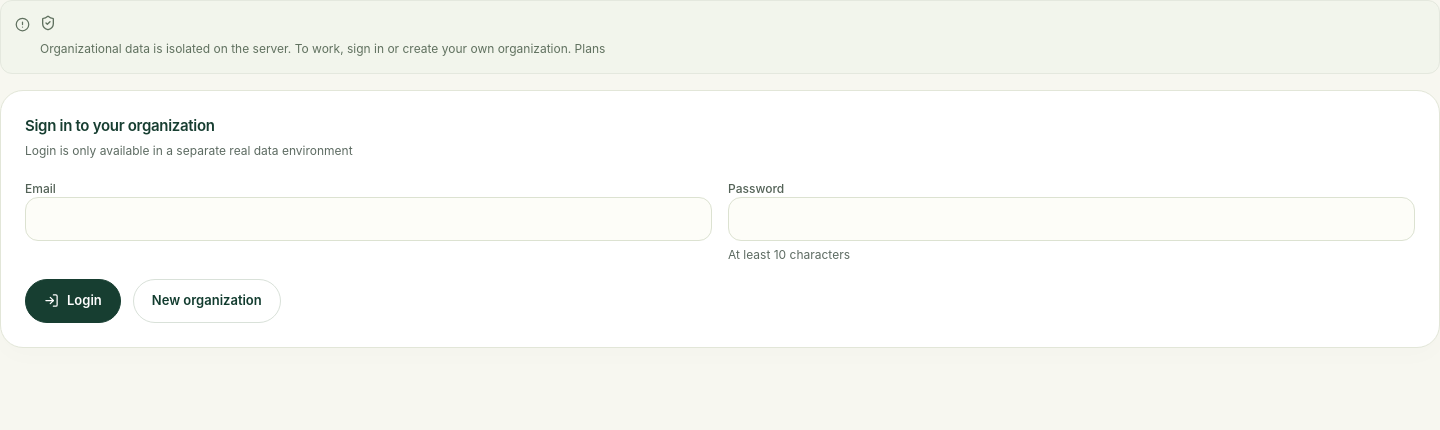
Scenario: en form and response messages › translates required fields and server errors without locking sign-in
Click the button "Login". click: (73, 300)
box: [25,278,121,322]
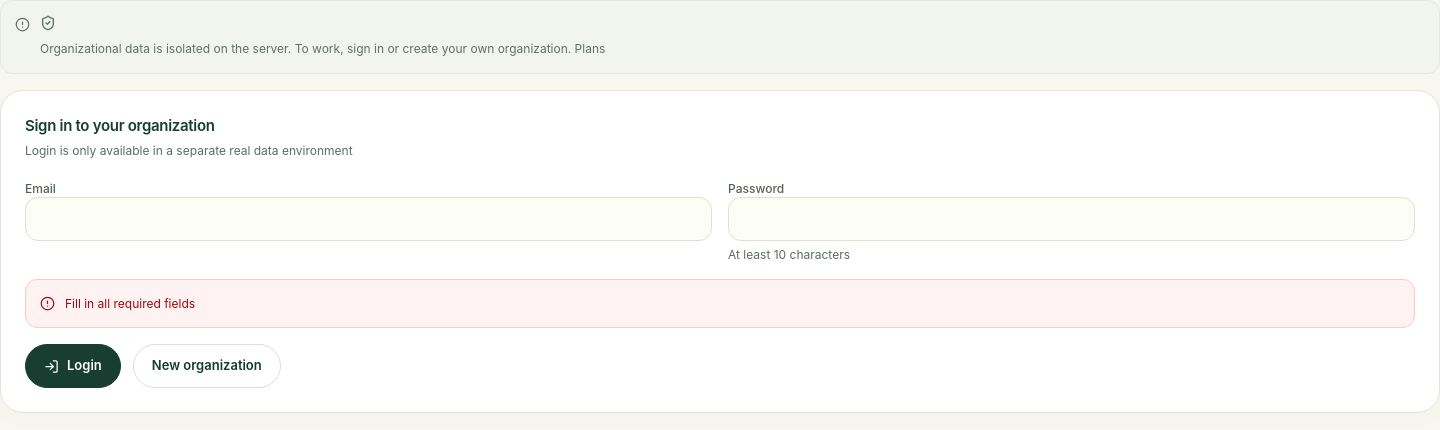
Expected: the button "Login" is enabled, [25,344,121,388]
Expected: the text "Fill in all required fields" is shown, [65,294,195,313]
Type "baker@example.test" into the field labelled "Email". click: (368, 218)
box: [25,196,712,240]
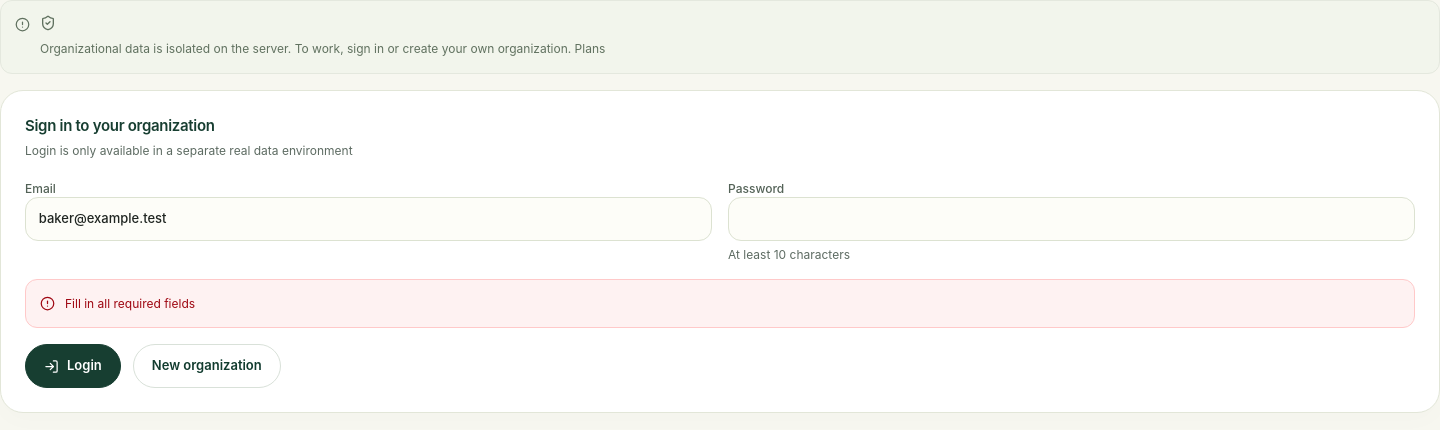
Type "test-password-123" into the password field labelled "Password At least 10 characters". click: (1072, 218)
box: [728,196,1415,240]
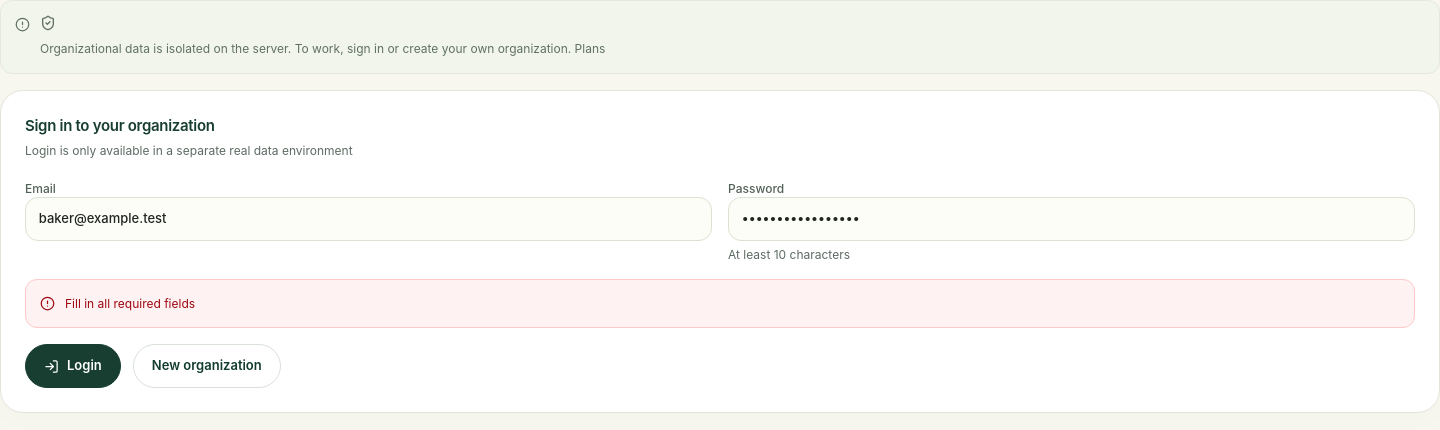
Click the button "Login". click: (73, 366)
box: [25,344,121,388]
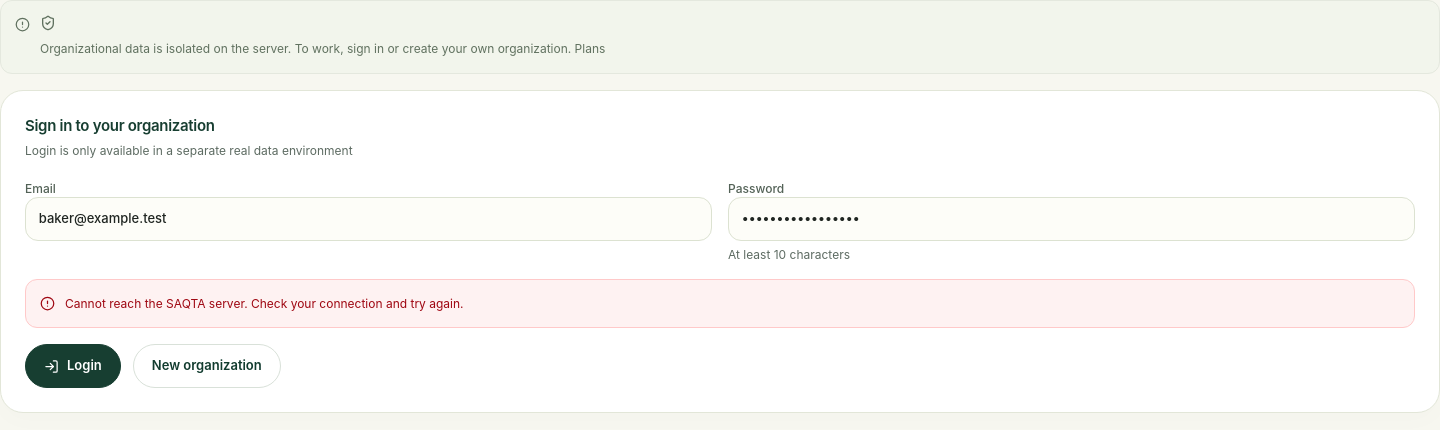
Expected: the text "Cannot reach the SAQTA server. Check your connection and try again." is shown, [65,294,464,313]
